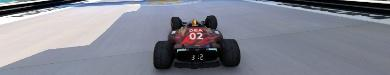Car: (152, 14, 240, 69)
